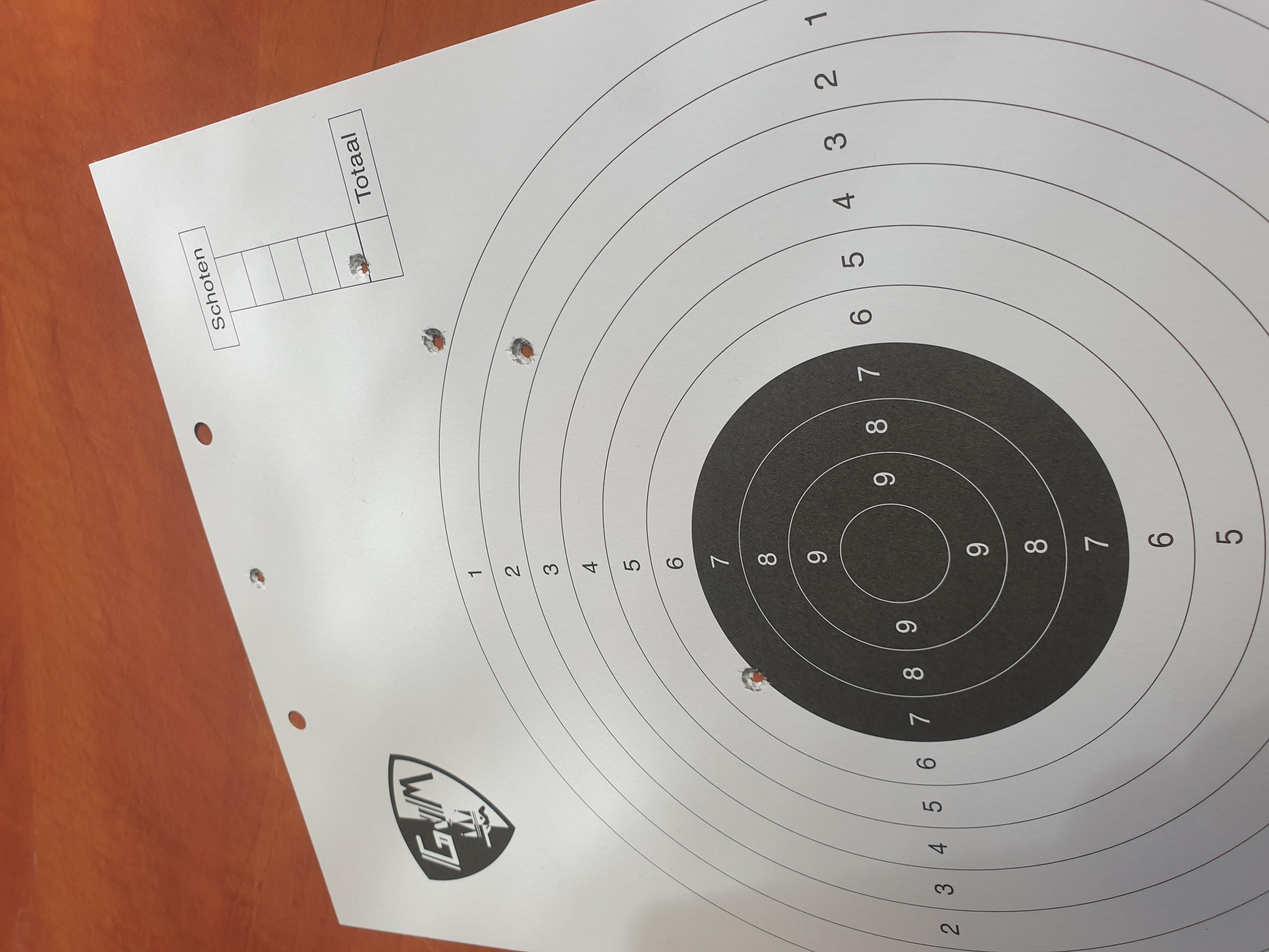hole: (731, 586, 762, 616), (500, 258, 530, 286), (897, 672, 924, 699), (821, 597, 847, 625), (1002, 364, 1023, 383)
